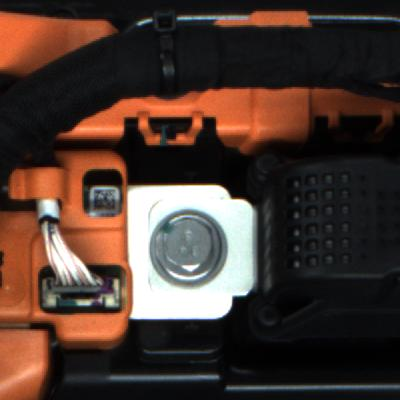nut_b: (143, 208, 234, 285)
